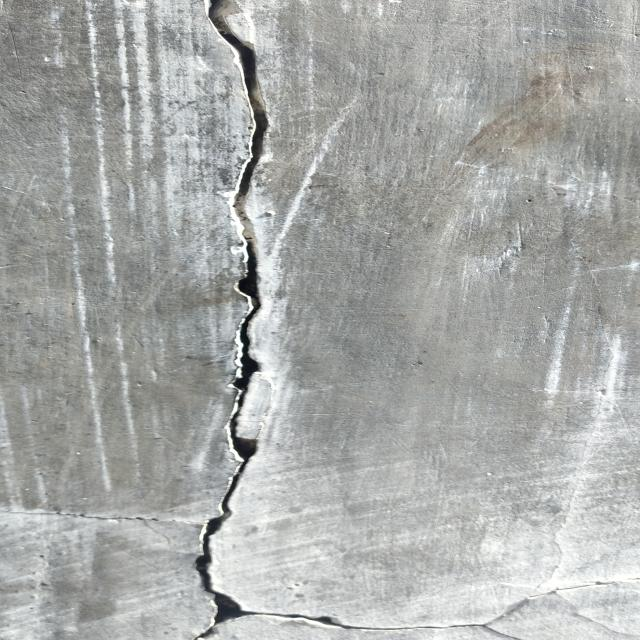Crack: (183, 2, 627, 637)
